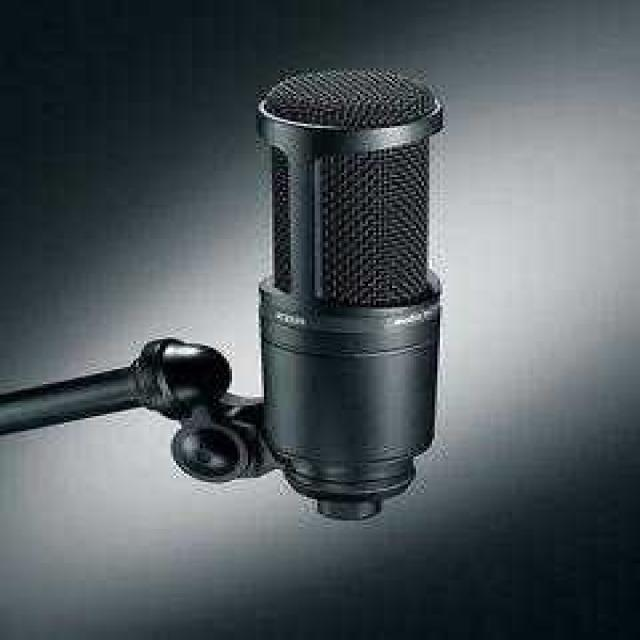microphone: (253, 60, 462, 532)
